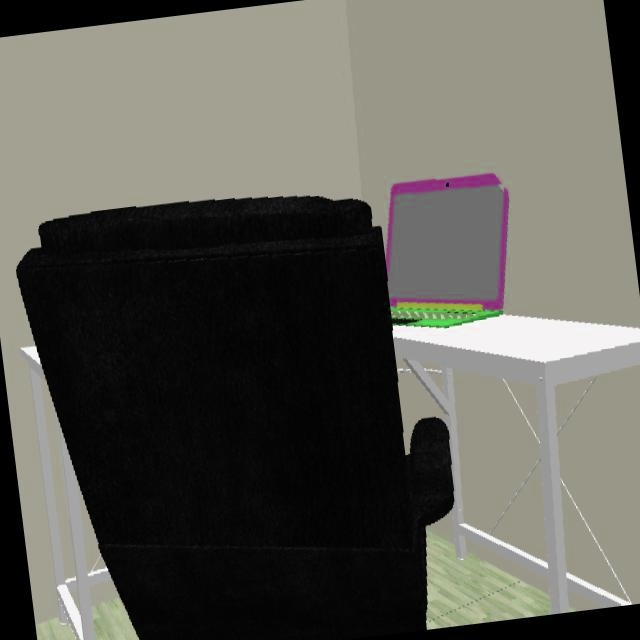chair: (15, 196, 455, 640)
laptop: (386, 172, 509, 328)
table: (394, 315, 640, 613), (21, 348, 107, 640)
